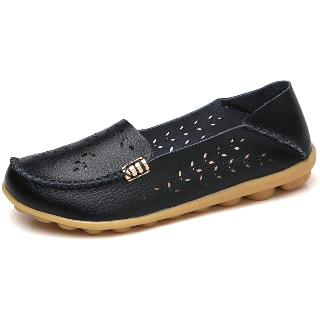loafers: (0, 79, 318, 235)
